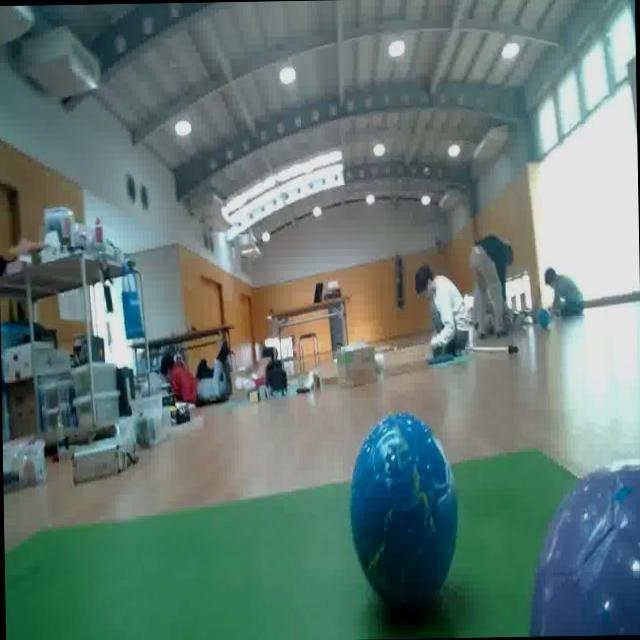blue_ball: (347, 414, 458, 602), (538, 306, 550, 328)
purple_ball: (524, 455, 640, 636)
